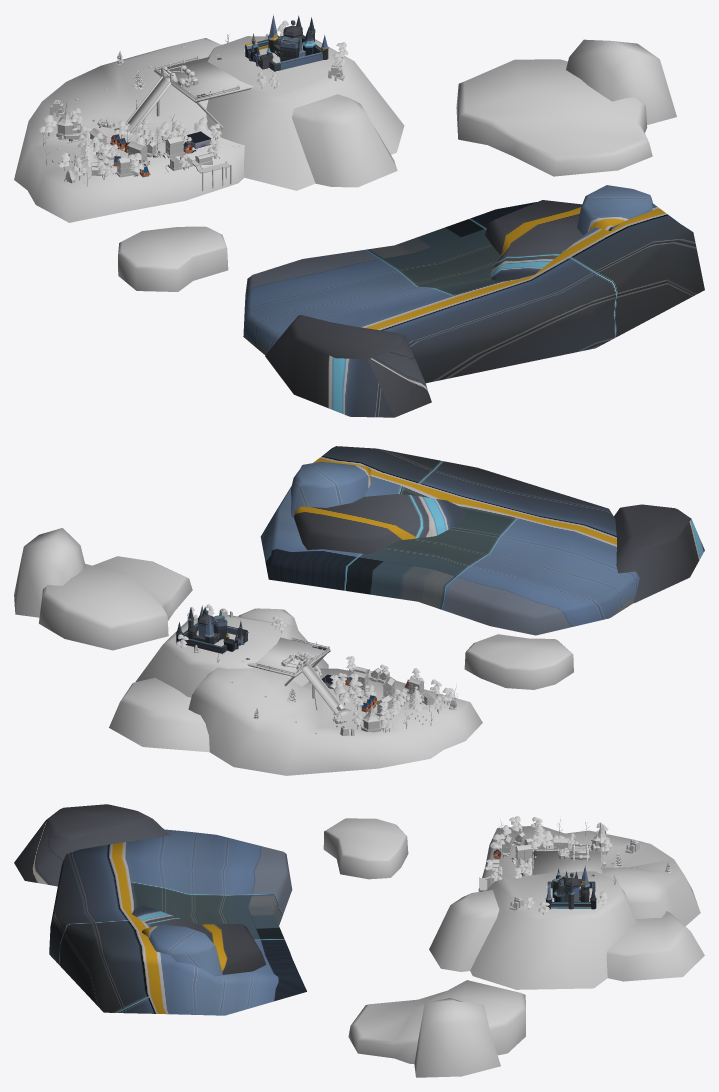
The model's file is prueba.fbx.
The picture shows the model from 3 angles, top to bottom: view 1: azimuth 30°, elevation 25°; view 2: azimuth 150°, elevation 25°; view 3: azimuth 270°, elevation 25°; orthographic projection. The views are drawn at different scales.
Visible parts, largest first — view 1: isla_villano, isla_heroe, islas_decoracion, base, castillo_heroe; view 2: isla_villano, isla_heroe, islas_decoracion, base, castillo_heroe; view 3: isla_villano, isla_heroe, islas_decoracion, castillo_heroe, base.
Part boxes in pixels (x1,y1,x2,y2): isla_villano: [243, 185, 704, 417]; isla_heroe: [14, 36, 404, 222]; islas_decoracion: [118, 39, 676, 291]; base: [114, 56, 253, 136]; castillo_heroe: [244, 14, 328, 71]; isla_villano: [260, 446, 704, 635]; isla_heroe: [109, 608, 482, 775]; islas_decoracion: [14, 528, 573, 689]; base: [247, 637, 351, 716]; castillo_heroe: [176, 605, 248, 653]; isla_villano: [14, 804, 306, 1015]; isla_heroe: [429, 826, 704, 989]; islas_decoracion: [323, 818, 525, 1077]; castillo_heroe: [545, 865, 596, 909]; base: [532, 844, 602, 875].
Size of the model in its own units: 43499 by 7373 by 52800.
